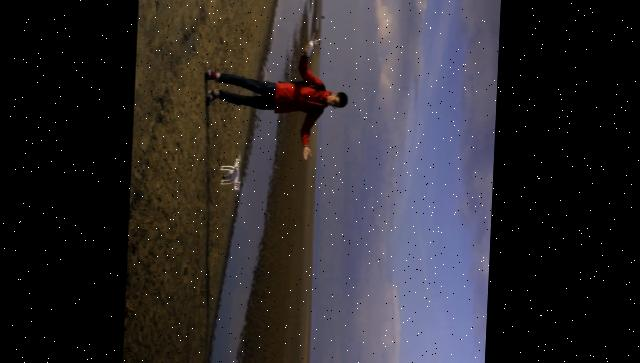drone: (221, 154, 246, 192)
